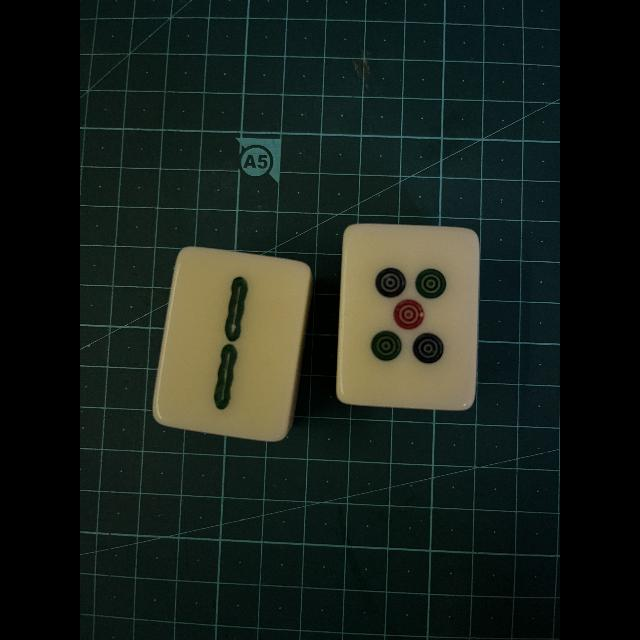b2: (165, 252, 293, 433)
d5: (343, 227, 472, 405)
